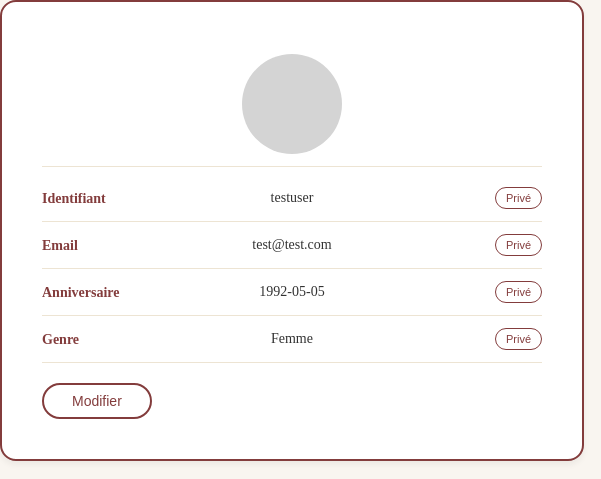
Test: ProfilInfos.spec.js › activates edit mode when modifier button is clicked
Click the button with class "edit-button" at (97, 401), box [42,383,152,419]
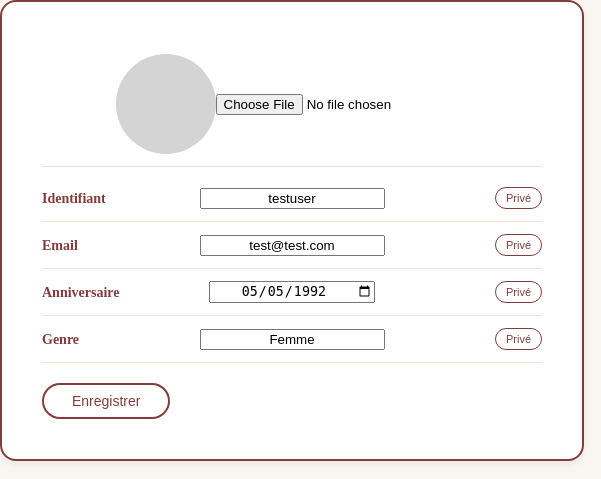
Result: the button with class "edit-button" reads "Enregistrer" at [42,383,170,419]
